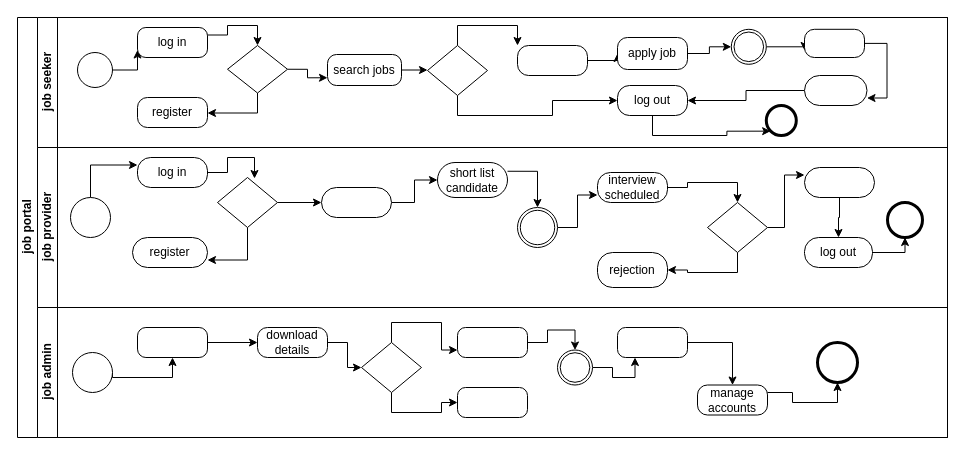
Image size: 965x455. Some labels were removed from this diagram. The centre of each missing label's shape, as x and y in pixels:
approve job provider: point 492,342
approve job seeker: point 492,402
job listing: point 172,342
job posting: point 356,202
notification: point 652,342
receive interview: point 834,43
selection: point 839,182
update result: point 835,90
upload resume: point 552,60
